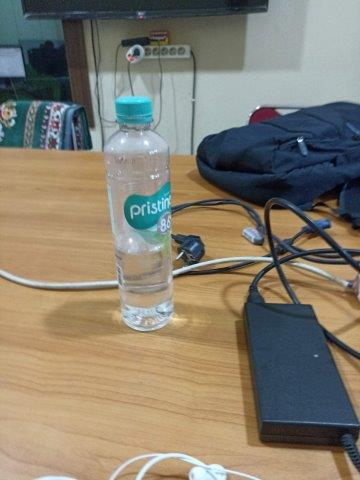botolplastik: (104, 96, 173, 332)
